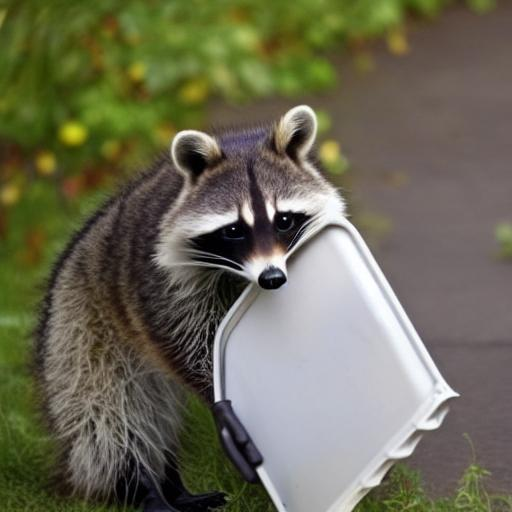raccoon: (22, 97, 342, 471)
